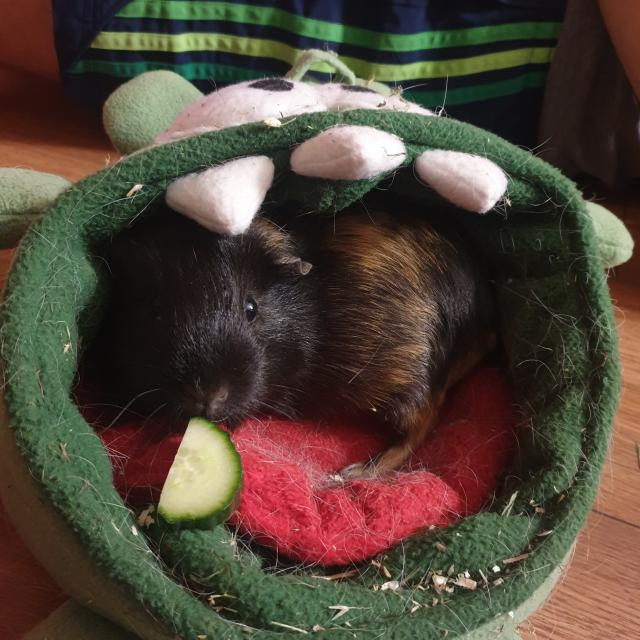guinea pig: (93, 195, 506, 490)
